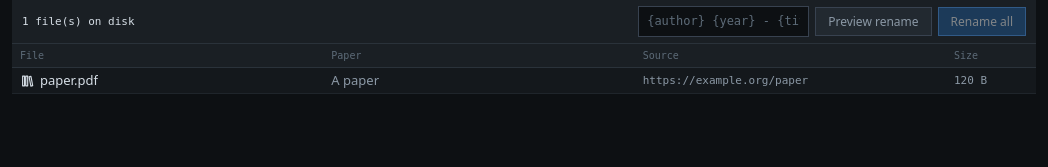
Test: shared header columns › files uses live toggles and keeps rows, actions and widths aligned
Step 1. Right-click the row with class "table-head" → (524, 56), box [12,44,1036,68]
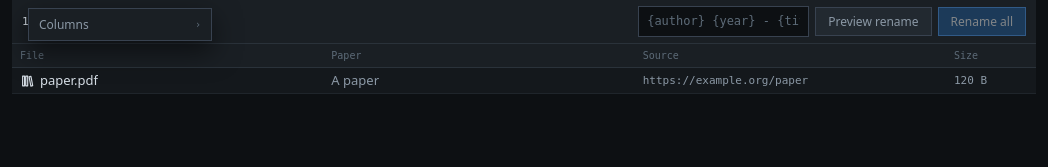
Now the menu item "Columns ›" is shown
Step 2. Click the menu item "Columns ›" → (64, 24), box [29,12,211,37]
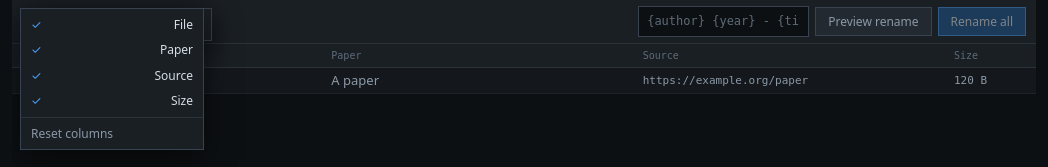
Now the menu item "✓ File" is shown
Step 3. Click the menu item "✓ File" → (112, 25), box [21,12,203,37]
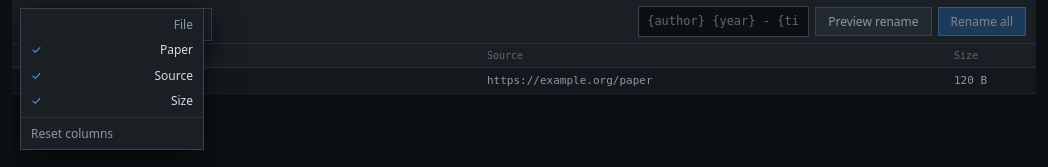
Now the menu item "✓ Paper" is shown
Step 4. Click the menu item "✓ Paper" → (112, 50), box [21,37,203,63]
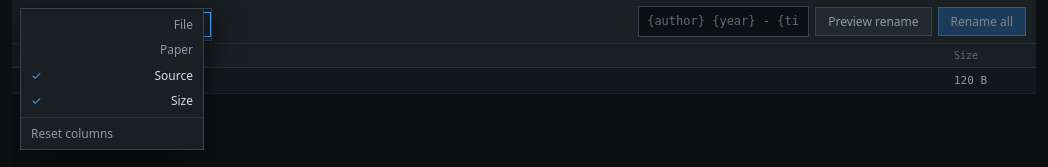
Now the menu with class "submenu" is shown, box [20,8,204,150]
Now the number of elements with class "cell" is 2, box [20,74,186,87]; [954,74,987,87]
